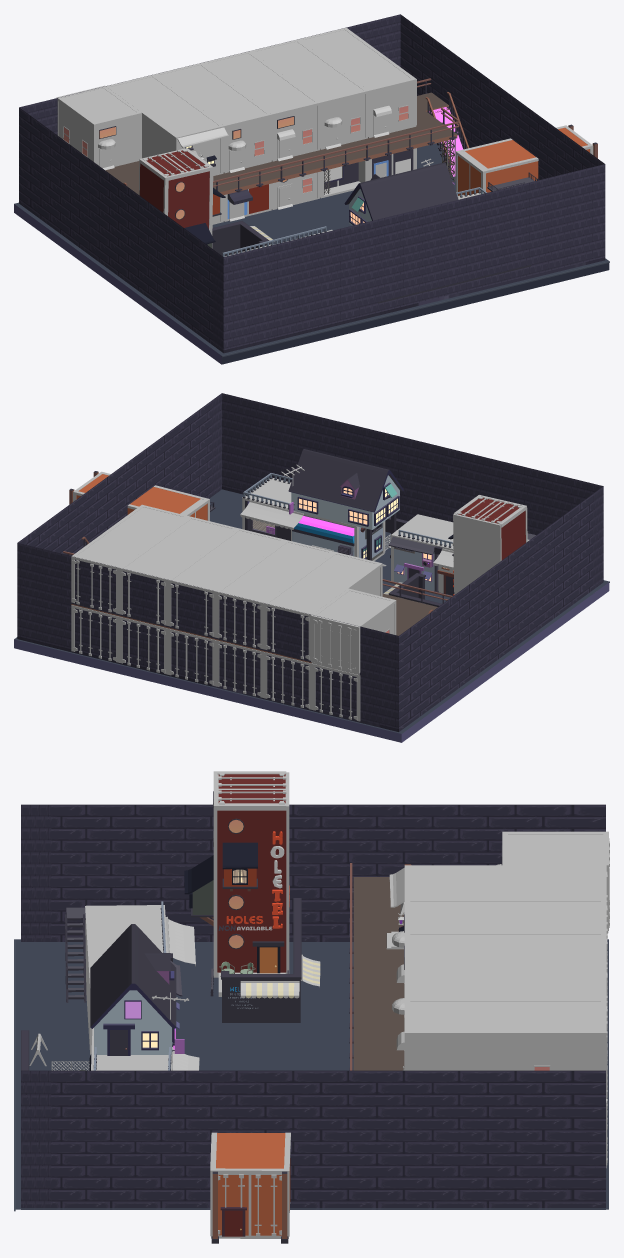
The model's file is INT_MORPderground.fbx.
3 views of the same model, one above another, from view 1: azimuth 30°, elevation 25°; view 2: azimuth 150°, elevation 25°; view 3: azimuth 270°, elevation 25° (orthographic). The views are drawn at different scales.
Visible parts, largest first — view 1: Walls.007, BoxCrate.213, Walls.068, CrateBalconyBase, BoxCrate.111, BoxCrate.205, BoxCrate.235, RoofTopper, BoxCrate.236, Wall.002, BalconyRailing.021, BalconyRailingBase.003 (+3 smaller); view 2: Walls.007, BoxCrate.213, Walls.068, BoxCrate.205, RoofTopper, BoxCrate.235, BoxCrate.111, BoxCrate.236, BoxCrate.223, CrateStoreWall, Crate.008, CrateBalconyBase (+4 smaller); view 3: Walls.007, BoxCrate.213, Walls.068, BoxCrate.235, CrateBalconyBase, RoofTopper, BoxCrate.236, BoxCrate.111, Wall.002, Crate.008, BuildingAddons, Stairs.028 (+6 smaller).
Boxes of the visible parts, bbox=[...] form: Walls.007: bbox=[19, 14, 605, 353]; BoxCrate.213: bbox=[106, 27, 416, 175]; Walls.068: bbox=[14, 143, 609, 364]; CrateBalconyBase: bbox=[105, 92, 457, 195]; BoxCrate.111: bbox=[56, 85, 141, 170]; BoxCrate.205: bbox=[212, 148, 416, 224]; BoxCrate.235: bbox=[138, 148, 213, 248]; RoofTopper: bbox=[344, 162, 458, 225]; BoxCrate.236: bbox=[456, 125, 593, 195]; Wall.002: bbox=[212, 221, 270, 255]; BalconyRailing.021: bbox=[213, 121, 459, 186]; BalconyRailingBase.003: bbox=[216, 124, 456, 192]; Walls.007: bbox=[17, 393, 603, 731]; BoxCrate.213: bbox=[71, 504, 382, 660]; Walls.068: bbox=[14, 489, 609, 742]; BoxCrate.205: bbox=[71, 605, 360, 721]; RoofTopper: bbox=[288, 449, 403, 529]; BoxCrate.235: bbox=[453, 495, 527, 594]; BoxCrate.111: bbox=[311, 588, 396, 674]; BoxCrate.236: bbox=[73, 471, 209, 520]; BoxCrate.223: bbox=[242, 478, 385, 561]; CrateStoreWall: bbox=[292, 515, 354, 556]; Crate.008: bbox=[391, 514, 529, 593]; CrateBalconyBase: bbox=[71, 593, 437, 663]; Walls.007: bbox=[21, 804, 605, 1209]; BoxCrate.213: bbox=[402, 865, 607, 1098]; Walls.068: bbox=[14, 939, 608, 1211]; BoxCrate.235: bbox=[213, 771, 289, 996]; CrateBalconyBase: bbox=[353, 877, 404, 1070]; RoofTopper: bbox=[90, 924, 176, 1054]; BoxCrate.236: bbox=[210, 1132, 290, 1238]; BoxCrate.111: bbox=[496, 831, 609, 932]; Wall.002: bbox=[221, 898, 301, 1022]; Crate.008: bbox=[85, 905, 167, 1054]; BuildingAddons: bbox=[222, 842, 257, 891]; Stairs.028: bbox=[65, 907, 86, 1002].
Size of the model in its own units: 8834 by 2522 by 7157.
